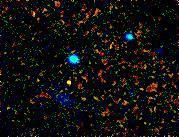star: (56, 70, 86, 100)
